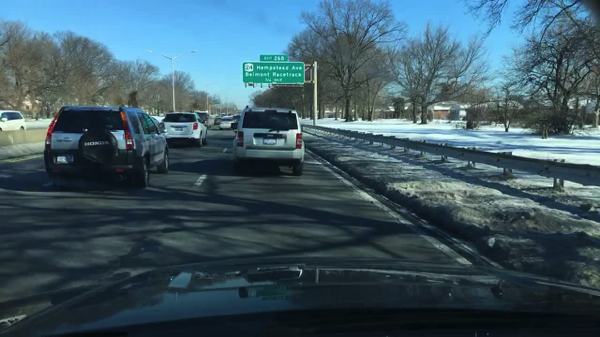car: (43, 104, 170, 187), (232, 106, 305, 176), (161, 111, 207, 147), (0, 110, 28, 131), (195, 110, 214, 130), (218, 117, 237, 131), (213, 118, 222, 126), (230, 114, 241, 120)
traffic sign: (242, 61, 306, 84), (259, 54, 288, 61)
